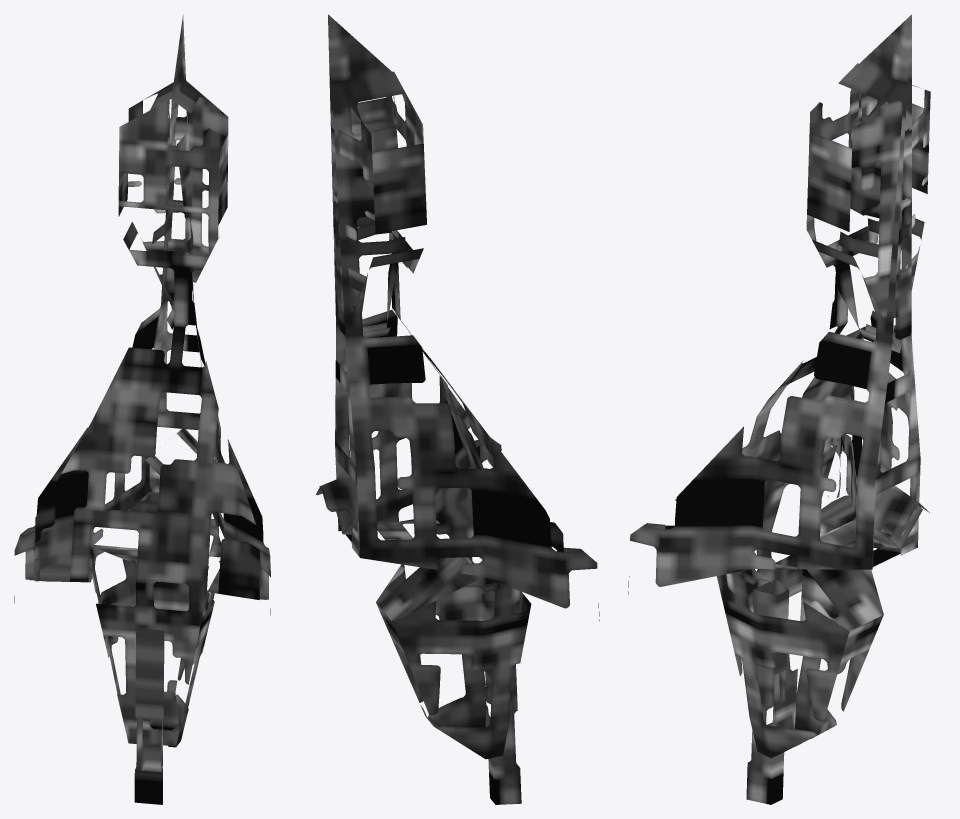
Rendered from mediumcopter_wreck_forward.glb.
The picture shows the model from 3 angles, left to right: view 1: azimuth 30°, elevation 25°; view 2: azimuth 150°, elevation 25°; view 3: azimuth 270°, elevation 25°; orthographic projection. The views are drawn at different scales.
Parts seen in each view (by area): view 1: MediumCopter01; view 2: MediumCopter01; view 3: MediumCopter01.
Part boxes in pixels (x1,y1,x2,y2): MediumCopter01: (14,14,270,804); MediumCopter01: (316,14,599,804); MediumCopter01: (628,14,930,804).
Bounding box in the file's own units: 4.05 × 12.14 × 4.16.
Materials: 1 (1 with a texture image).
